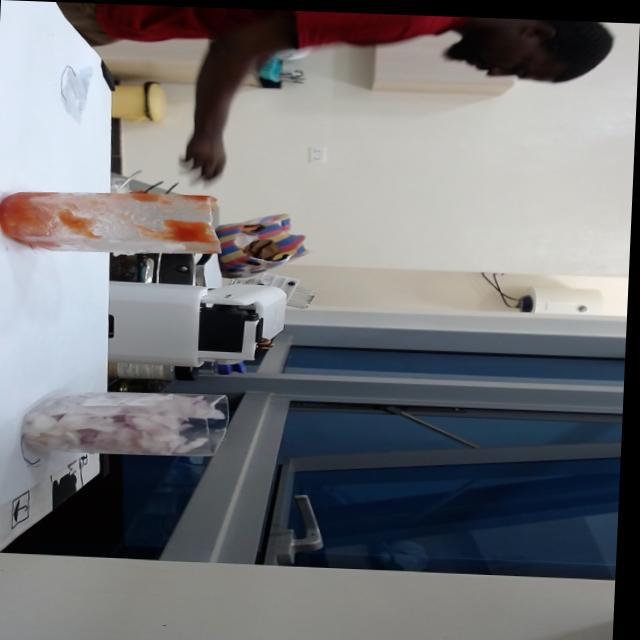blended_tomatoes_pepper: (0, 189, 117, 251)
sliced_onions: (24, 390, 227, 456)
